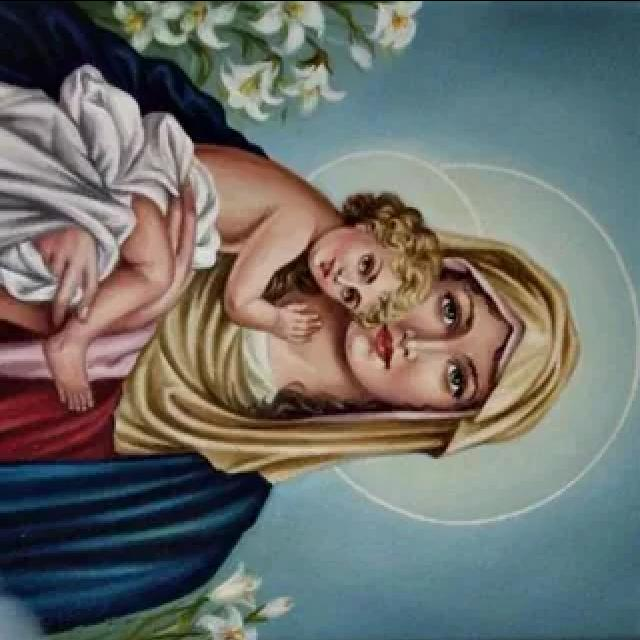mother of god: (0, 0, 590, 634)
